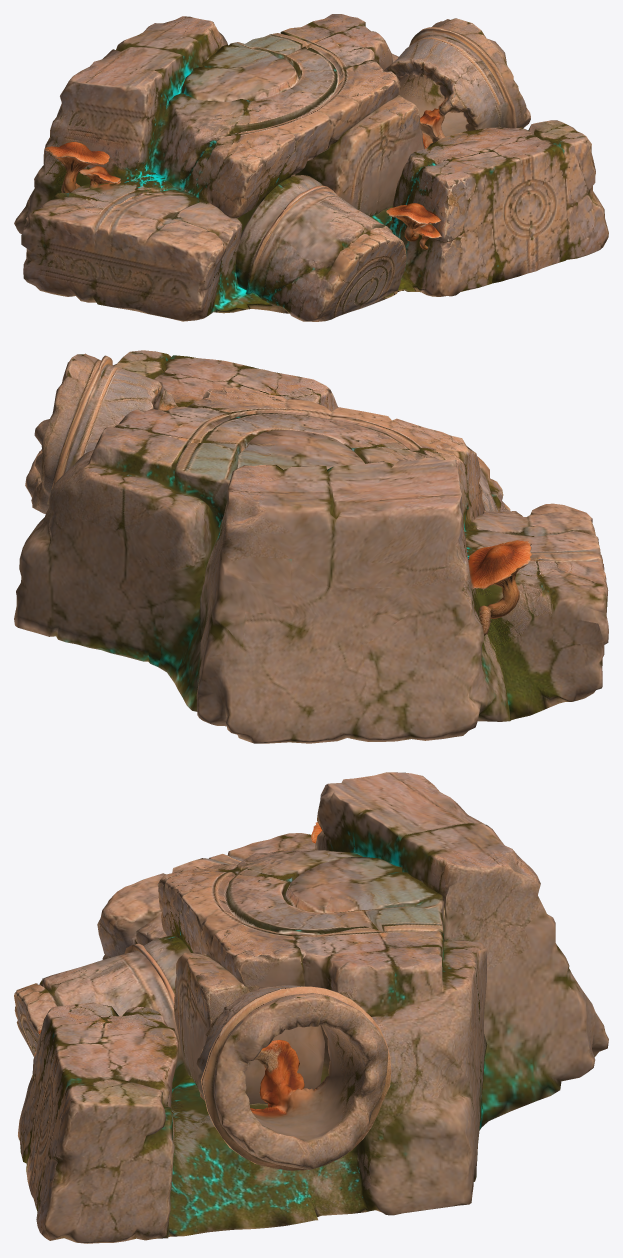
The model's file is citadel_rubble.fbx.
3 views of the same model, one above another, from view 1: azimuth 30°, elevation 25°; view 2: azimuth 150°, elevation 25°; view 3: azimuth 270°, elevation 25° (orthographic). The views are drawn at different scales.
Parts seen in each view (by area): view 1: citadel_rubble; view 2: citadel_rubble; view 3: citadel_rubble.
Boxes of the visible parts, x1=… form: citadel_rubble: x1=14, y1=14, x2=608, y2=321; citadel_rubble: x1=14, y1=350, x2=608, y2=743; citadel_rubble: x1=14, y1=772, x2=608, y2=1243.
Size of the model in its own units: 5 by 1.68 by 4.
